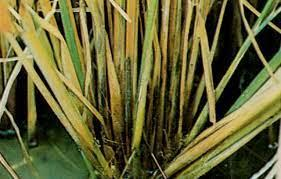Stem Rot: (167, 49, 182, 122), (94, 60, 108, 127), (124, 55, 135, 121)
